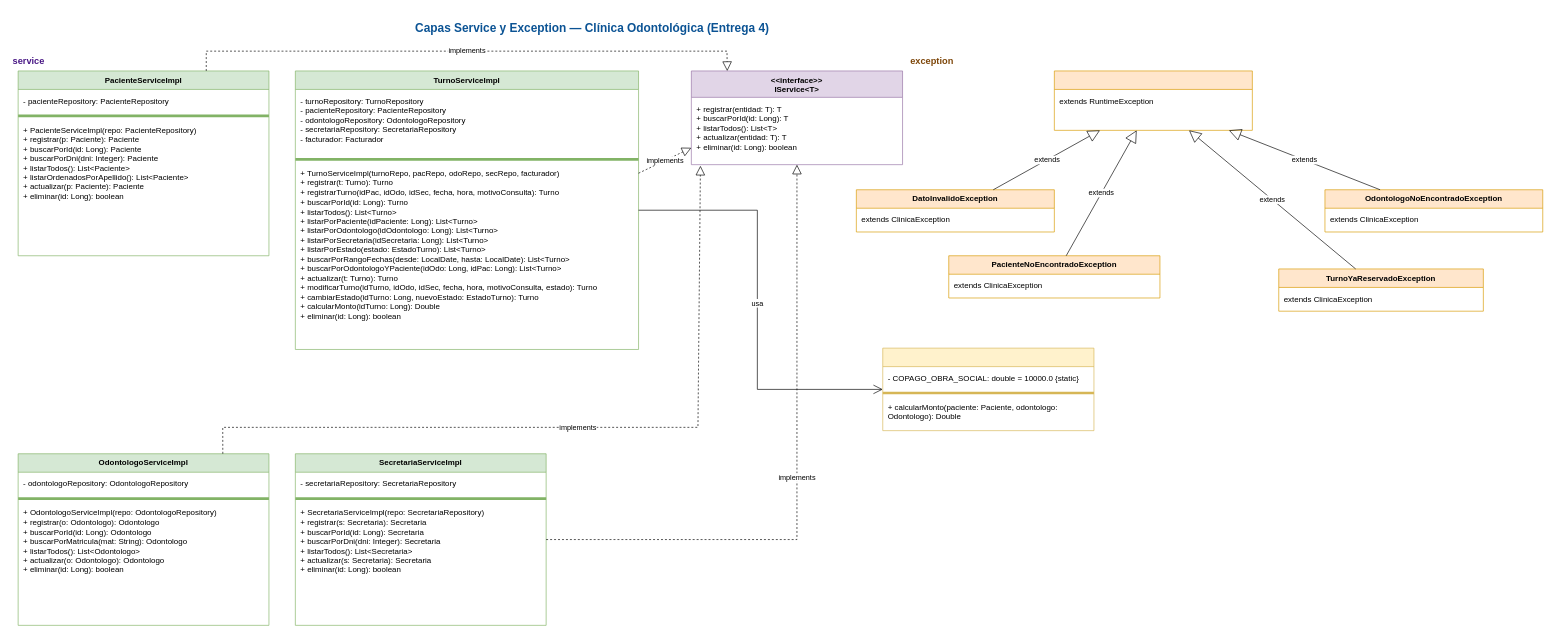
The diagram is 1554 pixels wide and 637 high, and some of its shapes have lost their labels. The box of each missing label's shape, as (x1, y1, x2, y2) in pixels:
ClinicaException: (1054, 70, 1252, 130)
Facturador: (882, 347, 1094, 431)
